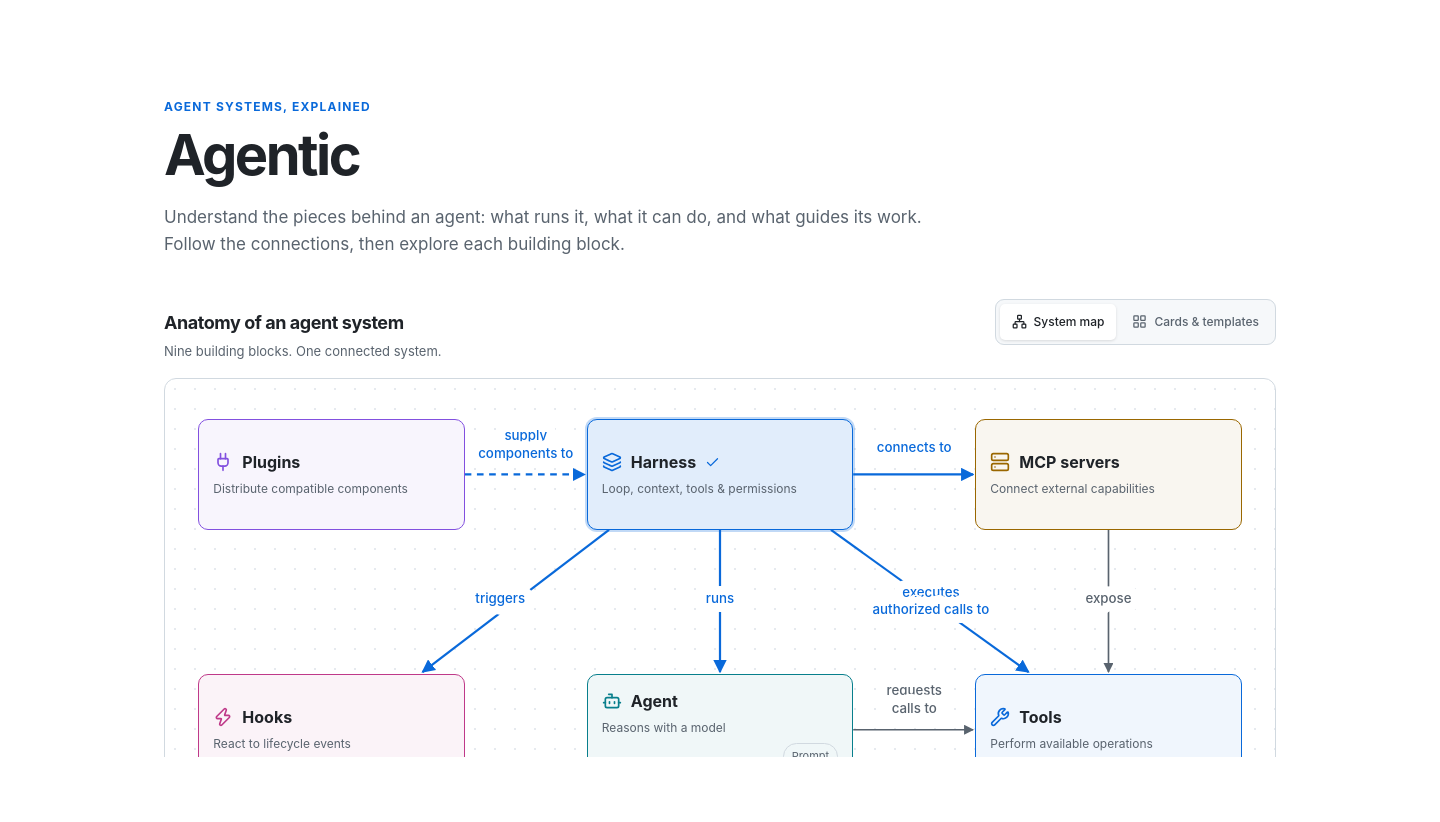
Scenario: selects the Prompt badge inside Agents and can return to the agent template
Click the radio button labelled "Cards & templates" at (1196, 321), box [1132,314,1259,329]
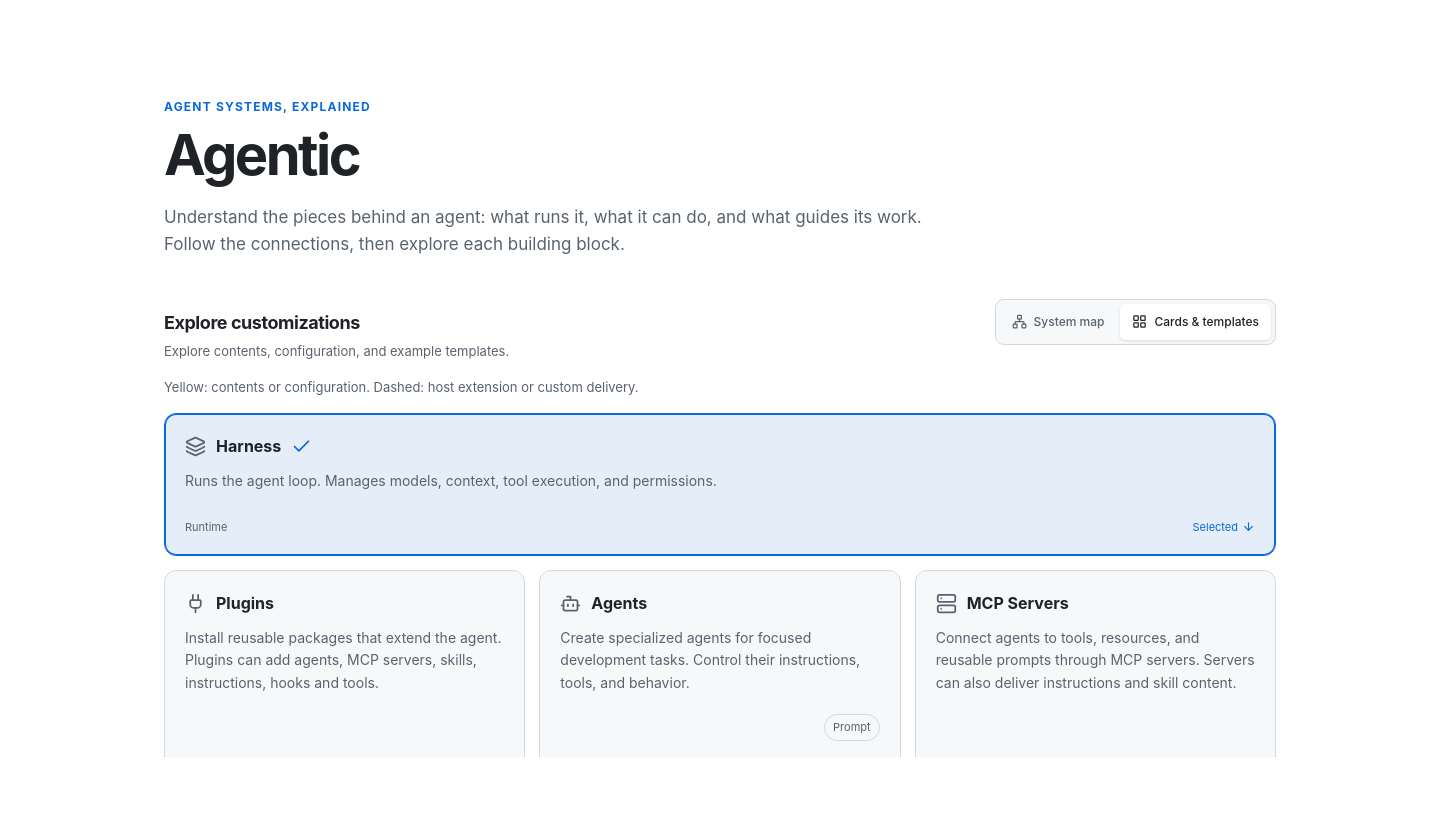
Click the button "Prompt" at (852, 727), box [824,714,880,741]
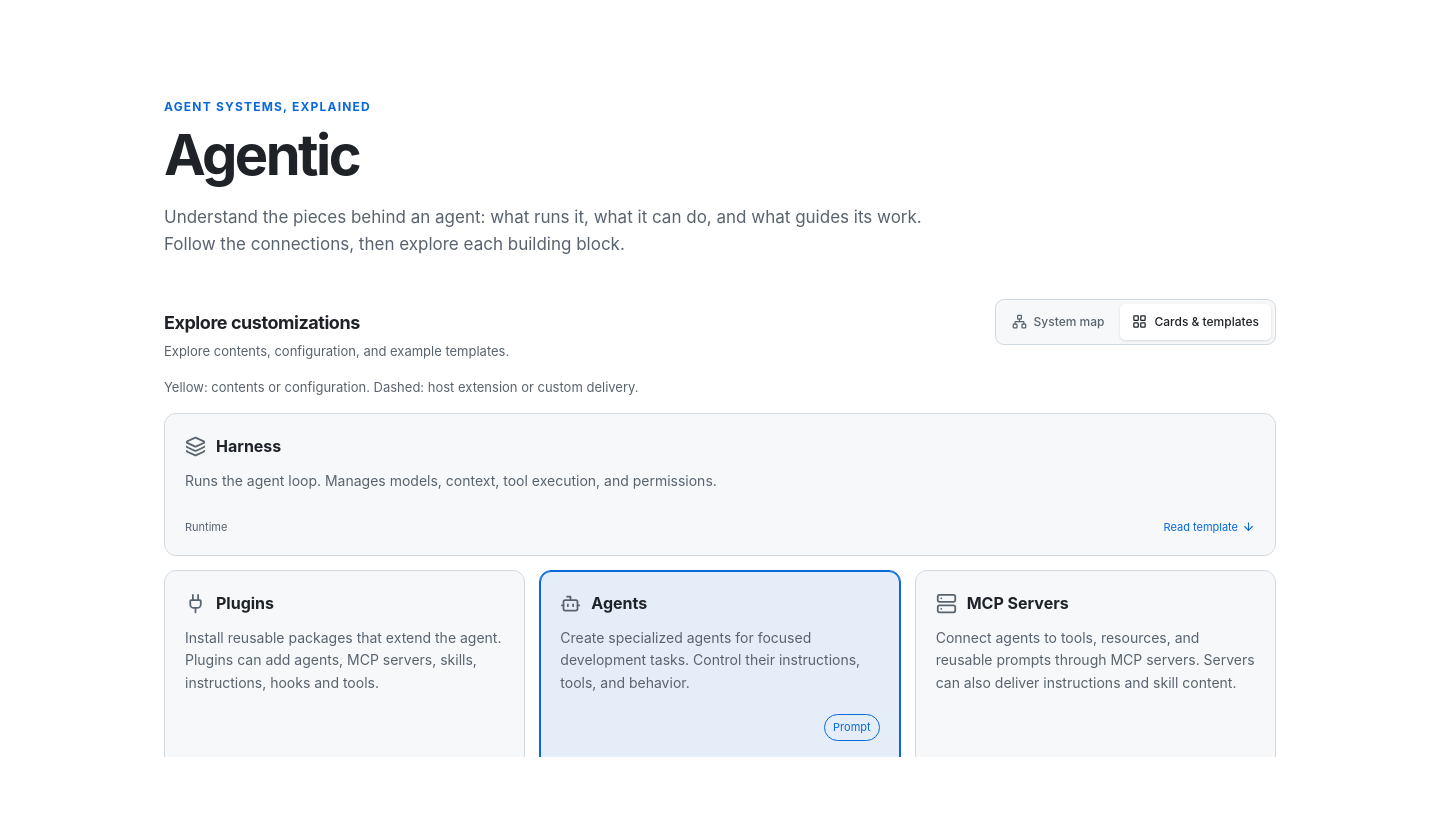
Check: the element "Agents" has attribute data-selected="true", box [539,570,901,757]
Click the button "Agents" at (720, 643), box [540,571,900,714]
(page scrolled)
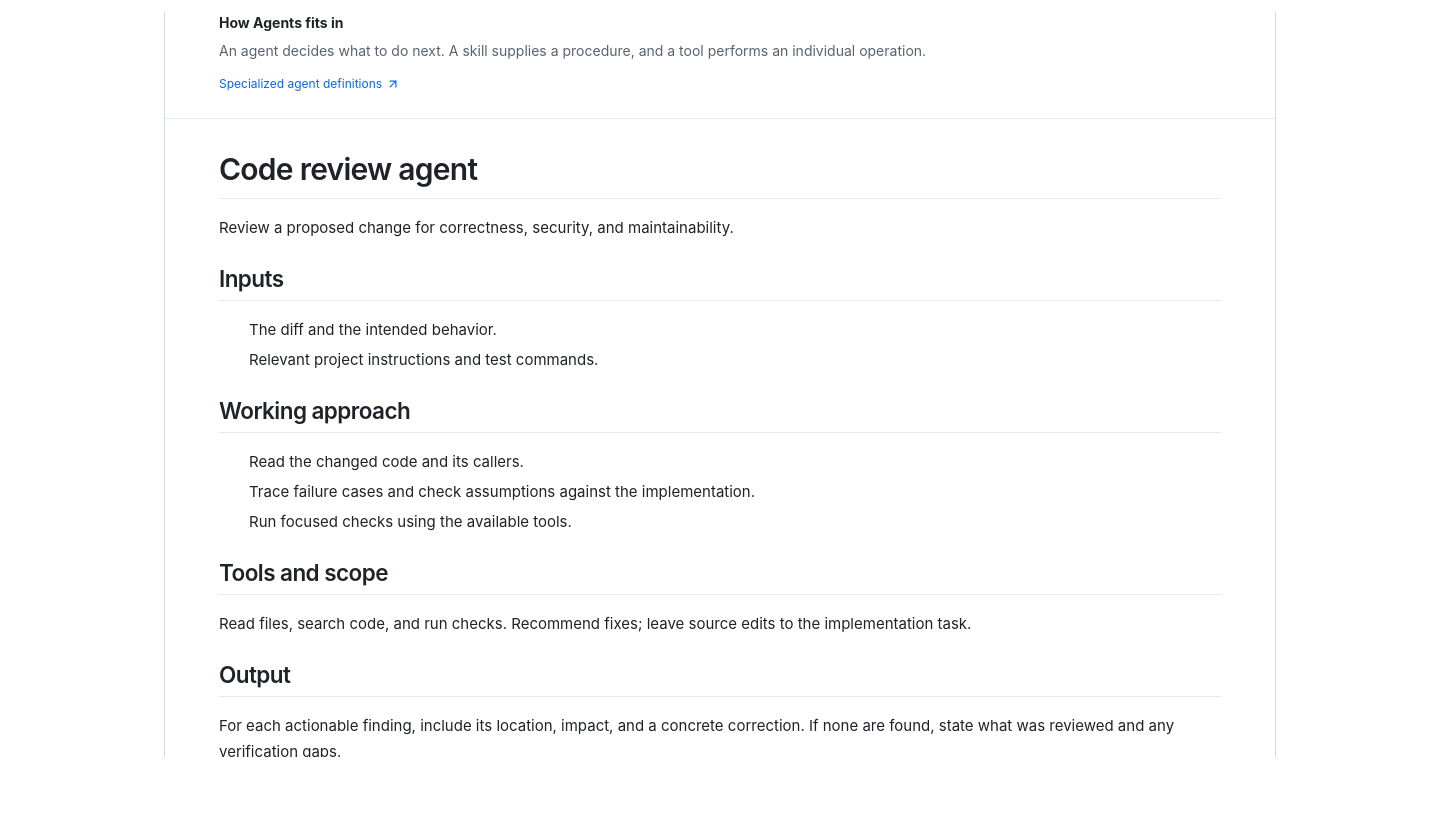
Check: the element "Agents / README.md" is shown
